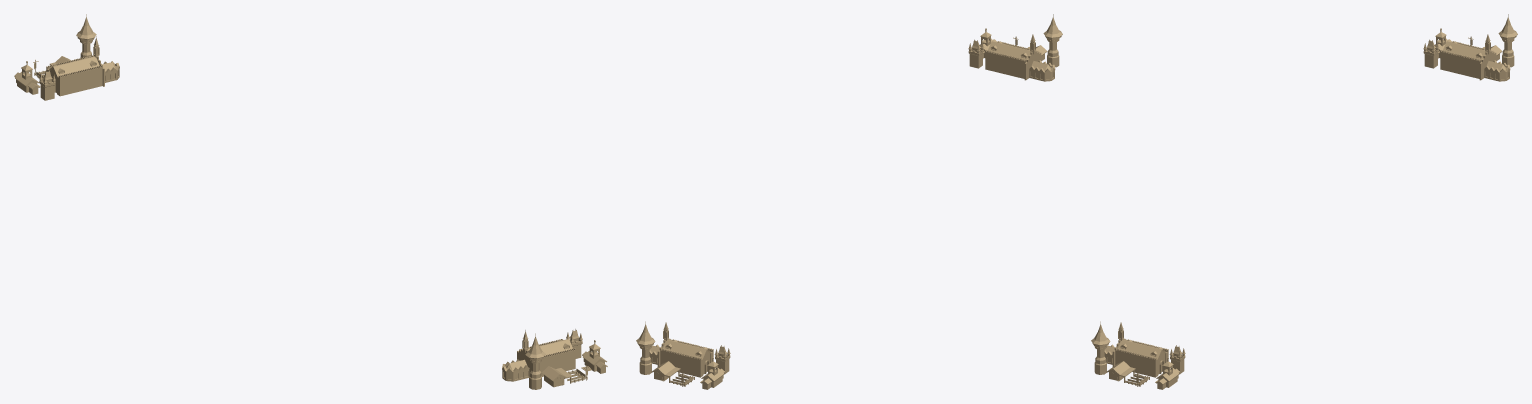
The model's file is castle.fbx.
3 views of the same model, side by side, from view 1: azimuth 30°, elevation 25°; view 2: azimuth 150°, elevation 25°; view 3: azimuth 330°, elevation 25° (orthographic). The views are drawn at different scales.
Parts seen in each view (by area): view 1: castle_main (×2), castle_barracks, castle_spire, castle_annex, castle_library; view 2: castle_main (×2), castle_spire (×2), castle_barracks, castle_annex, castle_library; view 3: castle_main (×2), castle_spire (×2), castle_barracks, castle_annex, castle_library.
Boxes of the visible parts, <box> form: castle_main (×2): <box>46,36,575,376</box>; castle_barracks: <box>541,365,588,387</box>; castle_spire: <box>525,333,545,389</box>; castle_annex: <box>502,359,529,381</box>; castle_library: <box>581,340,607,373</box>; castle_main (×2): <box>657,34,1041,377</box>; castle_spire (×2): <box>636,14,1062,374</box>; castle_barracks: <box>651,361,694,386</box>; castle_annex: <box>1029,60,1055,81</box>; castle_library: <box>700,357,724,389</box>; castle_main (×2): <box>1112,34,1496,377</box>; castle_spire (×2): <box>1091,14,1517,374</box>; castle_barracks: <box>1106,361,1149,386</box>; castle_annex: <box>1484,60,1510,81</box>; castle_library: <box>1155,357,1179,389</box>.
Size of the model in its own units: 16.96 by 5.69 by 86.48.
